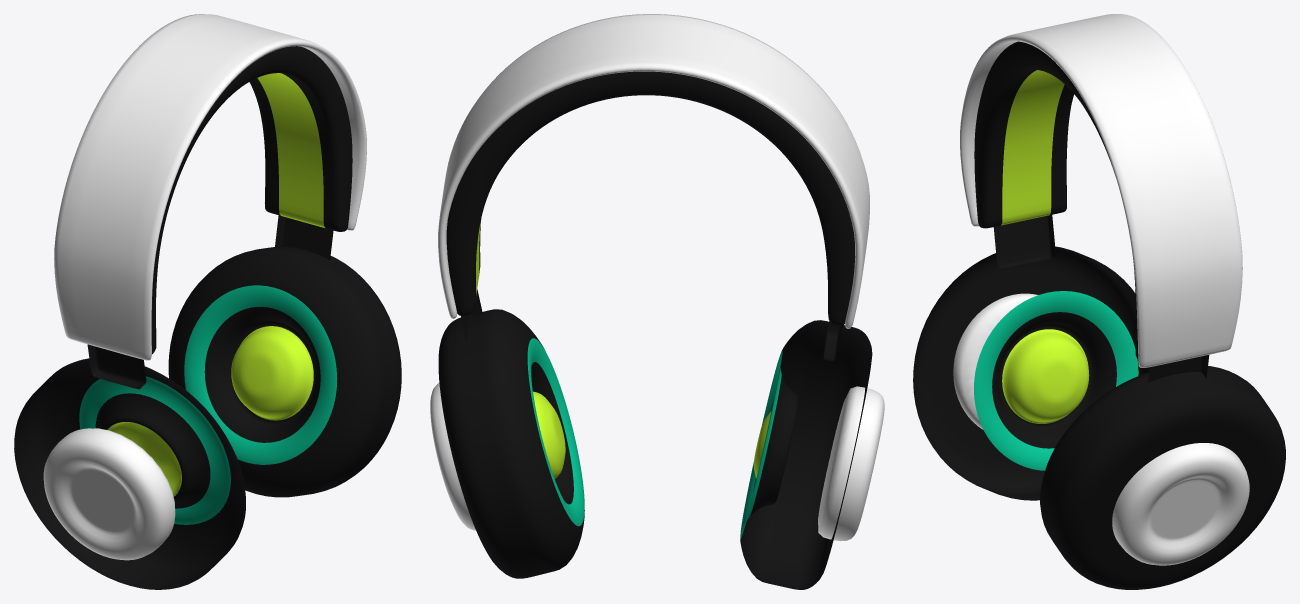
Rendered from headphone-3d-animated-icon-1105558687612.glb.
The picture shows the model from 3 angles, left to right: view 1: azimuth 30°, elevation 25°; view 2: azimuth 150°, elevation 25°; view 3: azimuth 270°, elevation 25°; orthographic projection. The views are drawn at different scales.
Visible parts, largest first — view 1: Cylinder.001, Arc.002, Arc.004, Arc.001; view 2: Cylinder.001, Arc.002, Arc.004, Arc.001; view 3: Cylinder.001, Arc.002, Arc.004, Arc.001.
Part boxes in pixels (left/top/right/bottom): Cylinder.001: left=14, top=247, right=401, bottom=589; Arc.002: left=54, top=14, right=366, bottom=360; Arc.004: left=151, top=46, right=352, bottom=353; Arc.001: left=87, top=215, right=333, bottom=389; Cylinder.001: left=430, top=309, right=884, bottom=589; Arc.002: left=438, top=14, right=869, bottom=328; Arc.004: left=446, top=71, right=855, bottom=325; Arc.001: left=461, top=289, right=843, bottom=361; Cylinder.001: left=913, top=246, right=1285, bottom=589; Arc.002: left=960, top=14, right=1242, bottom=367; Arc.004: left=974, top=41, right=1138, bottom=360; Arc.001: left=993, top=215, right=1209, bottom=382.
Size of the model in its own units: 4.32 by 5.63 by 3.77.
